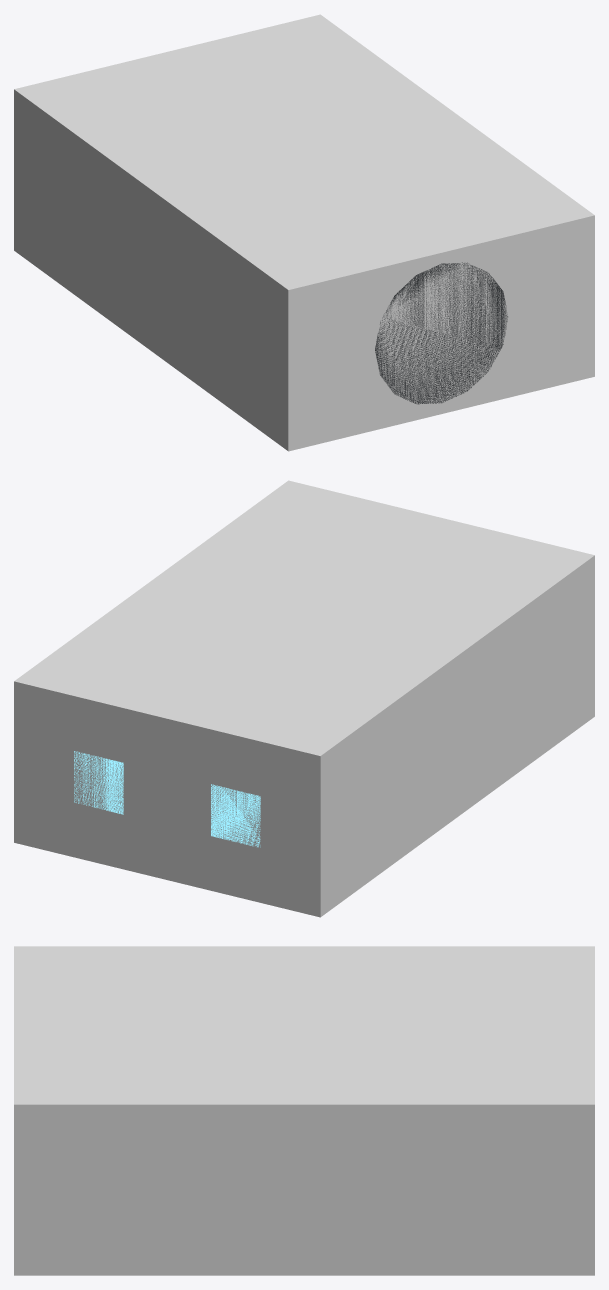
Rendered from rifle_emitter_arc.glb.
3 renders of one model, top to bottom at view 1: azimuth 30°, elevation 25°; view 2: azimuth 150°, elevation 25°; view 3: azimuth 270°, elevation 25°, orthographic. The views are drawn at different scales.
Visible parts, largest first — view 1: COL_part, emitter; view 2: COL_part, emitter; view 3: COL_part.
Boxes of the visible parts, x1,y1,x2,y2 form: COL_part: [14, 14, 594, 451]; emitter: [375, 262, 507, 404]; COL_part: [14, 480, 594, 917]; emitter: [74, 751, 260, 847]; COL_part: [14, 946, 594, 1275].
Size of the model in its own units: 0.0608 by 0.0306 by 0.0944.
